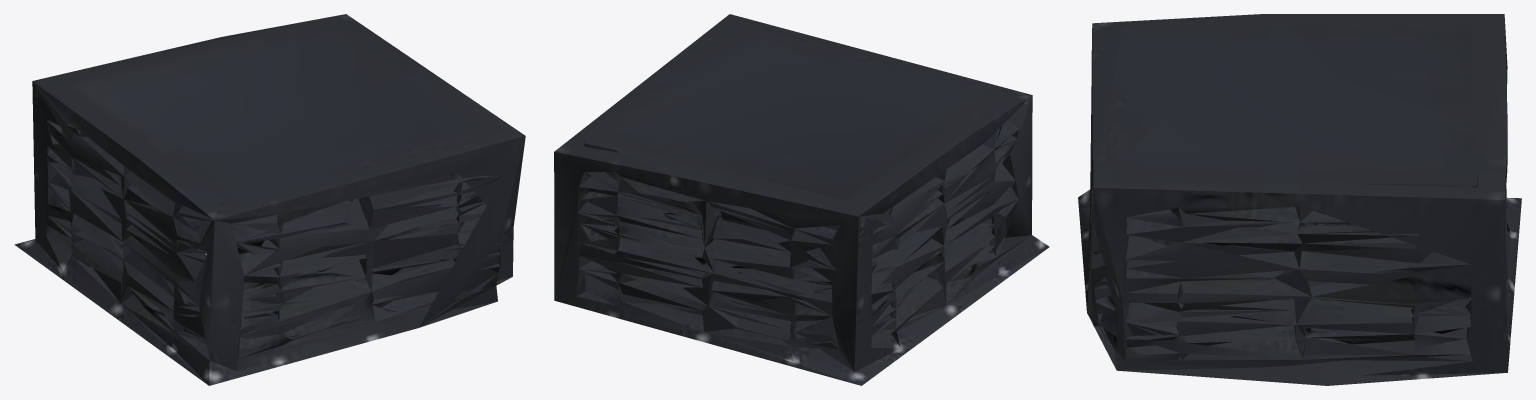
Rendered from fan.glb.
3 views of the same model, side by side, from view 1: azimuth 30°, elevation 25°; view 2: azimuth 150°, elevation 25°; view 3: azimuth 270°, elevation 25° (orthographic). The views are drawn at different scales.
Parts seen in each view (by area): view 1: fan; view 2: fan; view 3: fan.
Part boxes in pixels (left/top/right/bottom): fan: left=14, top=14, right=525, bottom=385; fan: left=554, top=14, right=1049, bottom=385; fan: left=1078, top=14, right=1521, bottom=385.
Size of the model in its own units: 3.11 by 1.5 by 3.1.
1 material, 1 textured.
